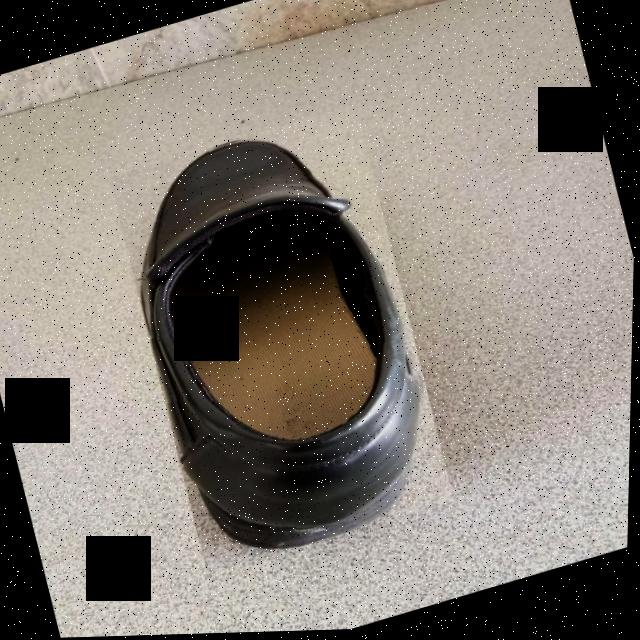shoe: (103, 103, 463, 577)
